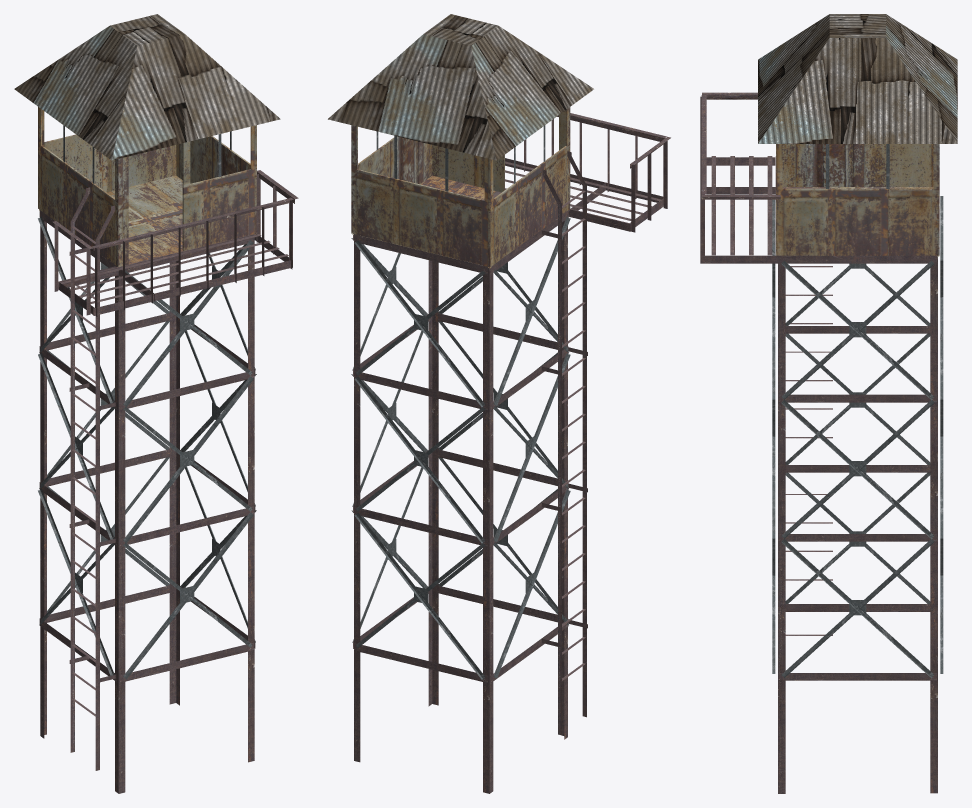
Rendered from GuardTower1_LOD1.fbx.
3 renders of one model, left to right at view 1: azimuth 30°, elevation 25°; view 2: azimuth 150°, elevation 25°; view 3: azimuth 270°, elevation 25°, orthographic. The views are drawn at different scales.
Visible parts, largest first — view 1: polySurface300; view 2: polySurface300; view 3: polySurface300.
Part boxes in pixels (x1,y1,x2,y2): polySurface300: (14,14,298,793); polySurface300: (328,14,670,793); polySurface300: (700,14,957,793).
Bounding box in the file's own units: 4.84 × 15.18 × 4.82.
Materials: 3 (3 with a texture image).
